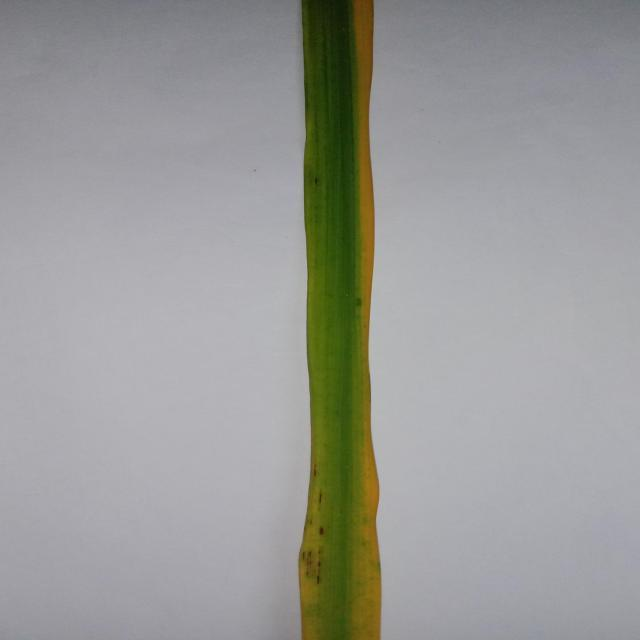Rice Tungro: (302, 460, 385, 640), (350, 29, 376, 123), (353, 228, 377, 327), (356, 119, 375, 232), (343, 0, 379, 35)
